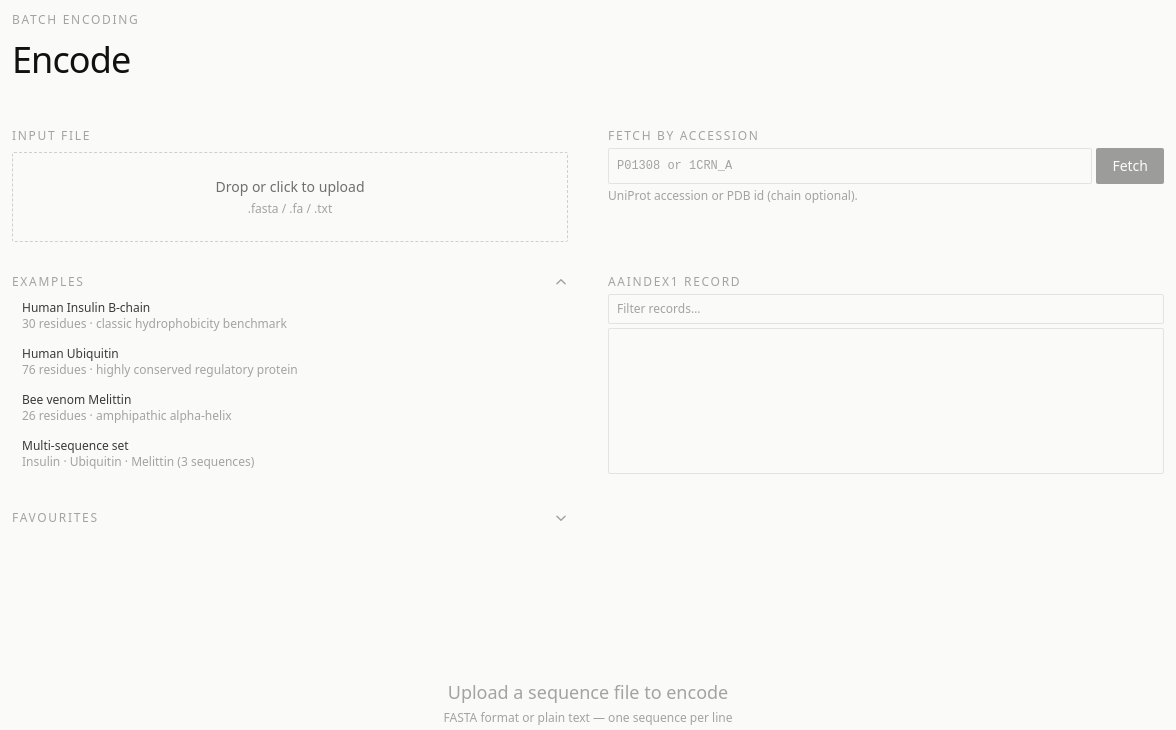
Scenario: Encode — favourites section › clicking the toggle opens the favourites section
Click the button "Favourites" at (55, 518), box [12,510,568,526]
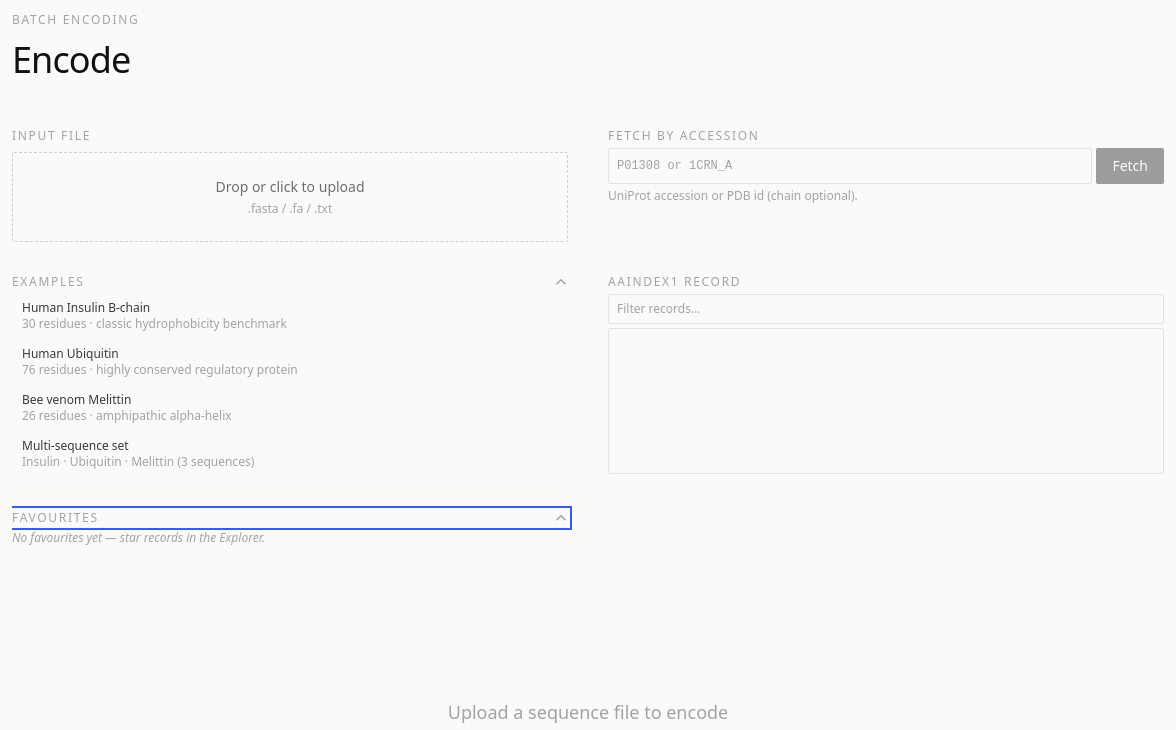
Now the text "No favourites yet — star records in the Explorer." is shown, box [12,529,265,546]
